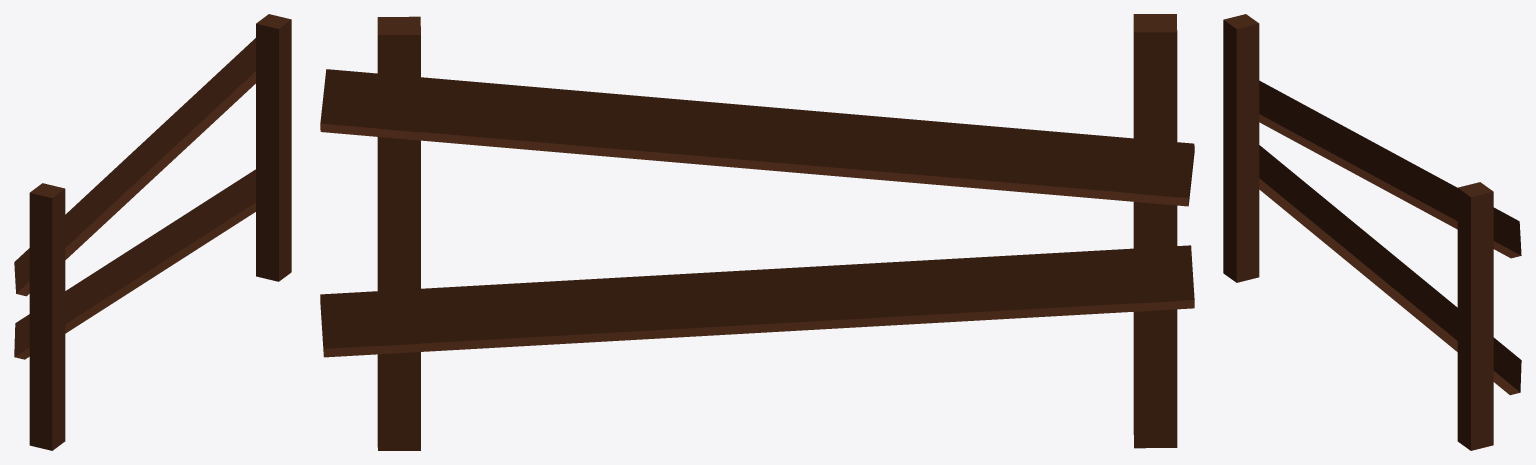
Rendered from fence.fbx.
The picture shows the model from 3 angles, left to right: view 1: azimuth 30°, elevation 25°; view 2: azimuth 150°, elevation 25°; view 3: azimuth 270°, elevation 25°; orthographic projection. The views are drawn at different scales.
Parts seen in each view (by area): view 1: polySurface6; view 2: polySurface6; view 3: polySurface6.
Part boxes in pixels (box(x1,y1,x2,y2)): polySurface6: box(14, 14, 291, 450); polySurface6: box(320, 14, 1194, 450); polySurface6: box(1223, 14, 1521, 450).
Bounding box in the file's own units: 203 × 122 × 130.
